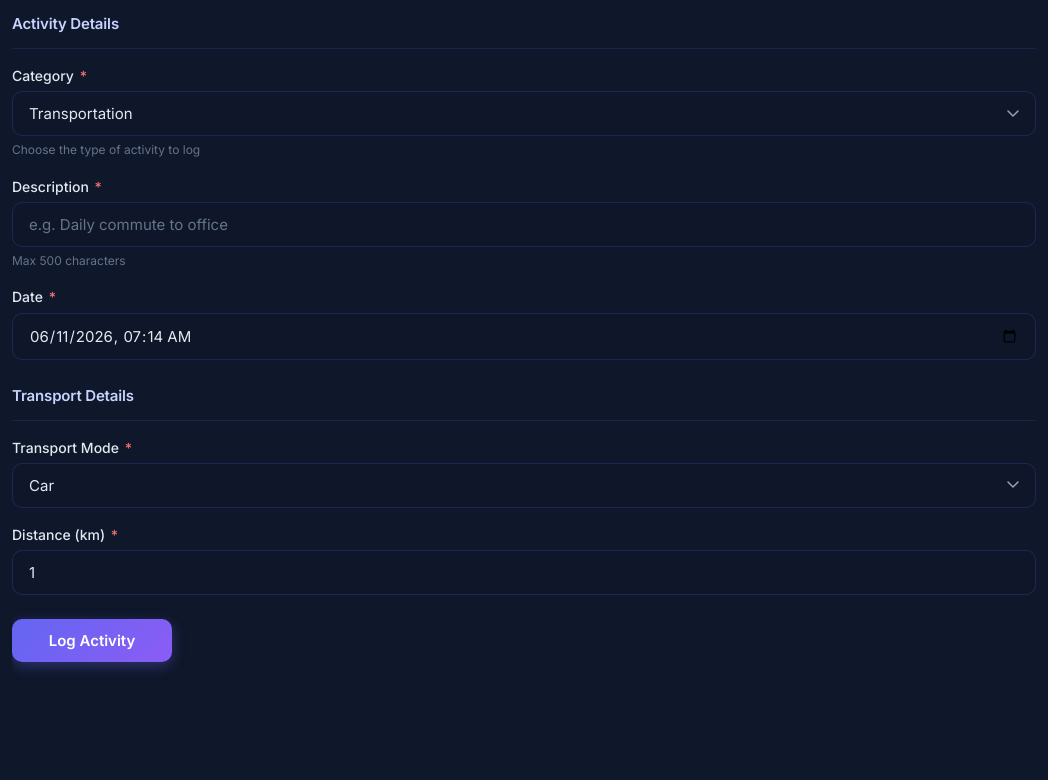
LogActivityForm › category field visibility › shows energy fields when Energy is selected (consumption_kwh, source)
Select "Energy" in the dropdown labelled "Category *" at (524, 114), box [12,91,1036,136]
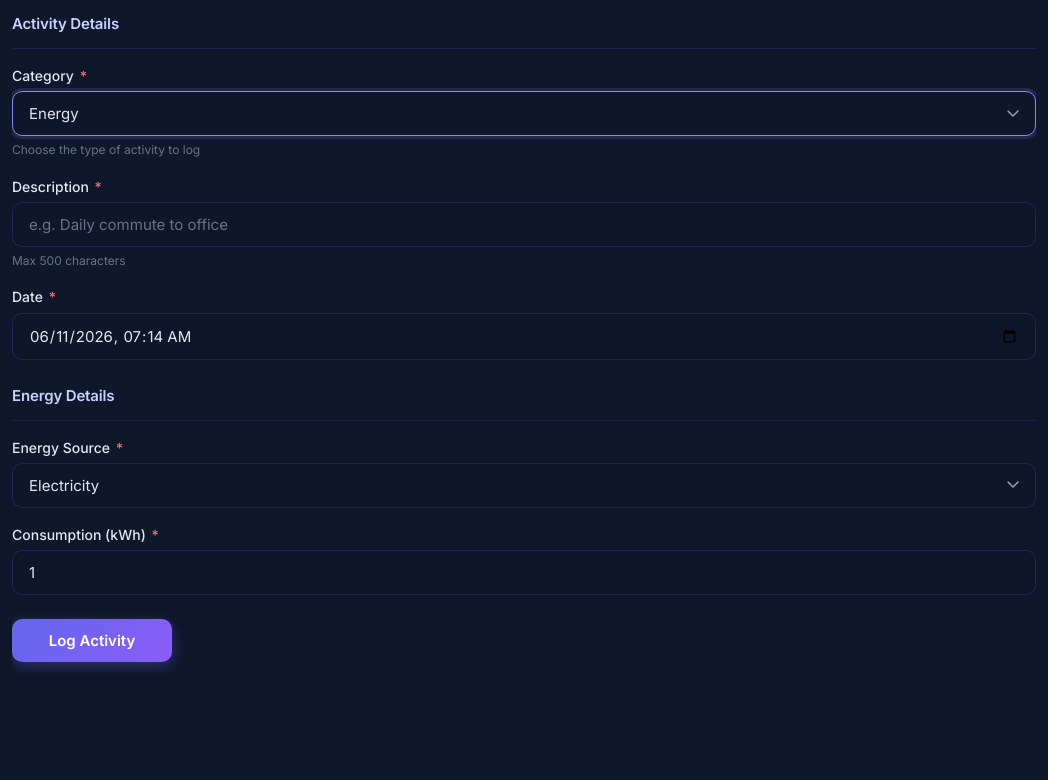
Expected: the number field labelled "Consumption (kWh) *" is shown, [12,550,1036,595]
Expected: the dropdown labelled "Energy Source *" is shown, [12,463,1036,508]
Expected: the label labelled "Transport Mode" is gone
